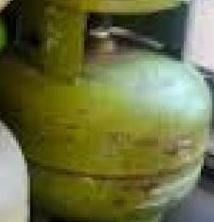cylinder: (1, 1, 214, 222)
